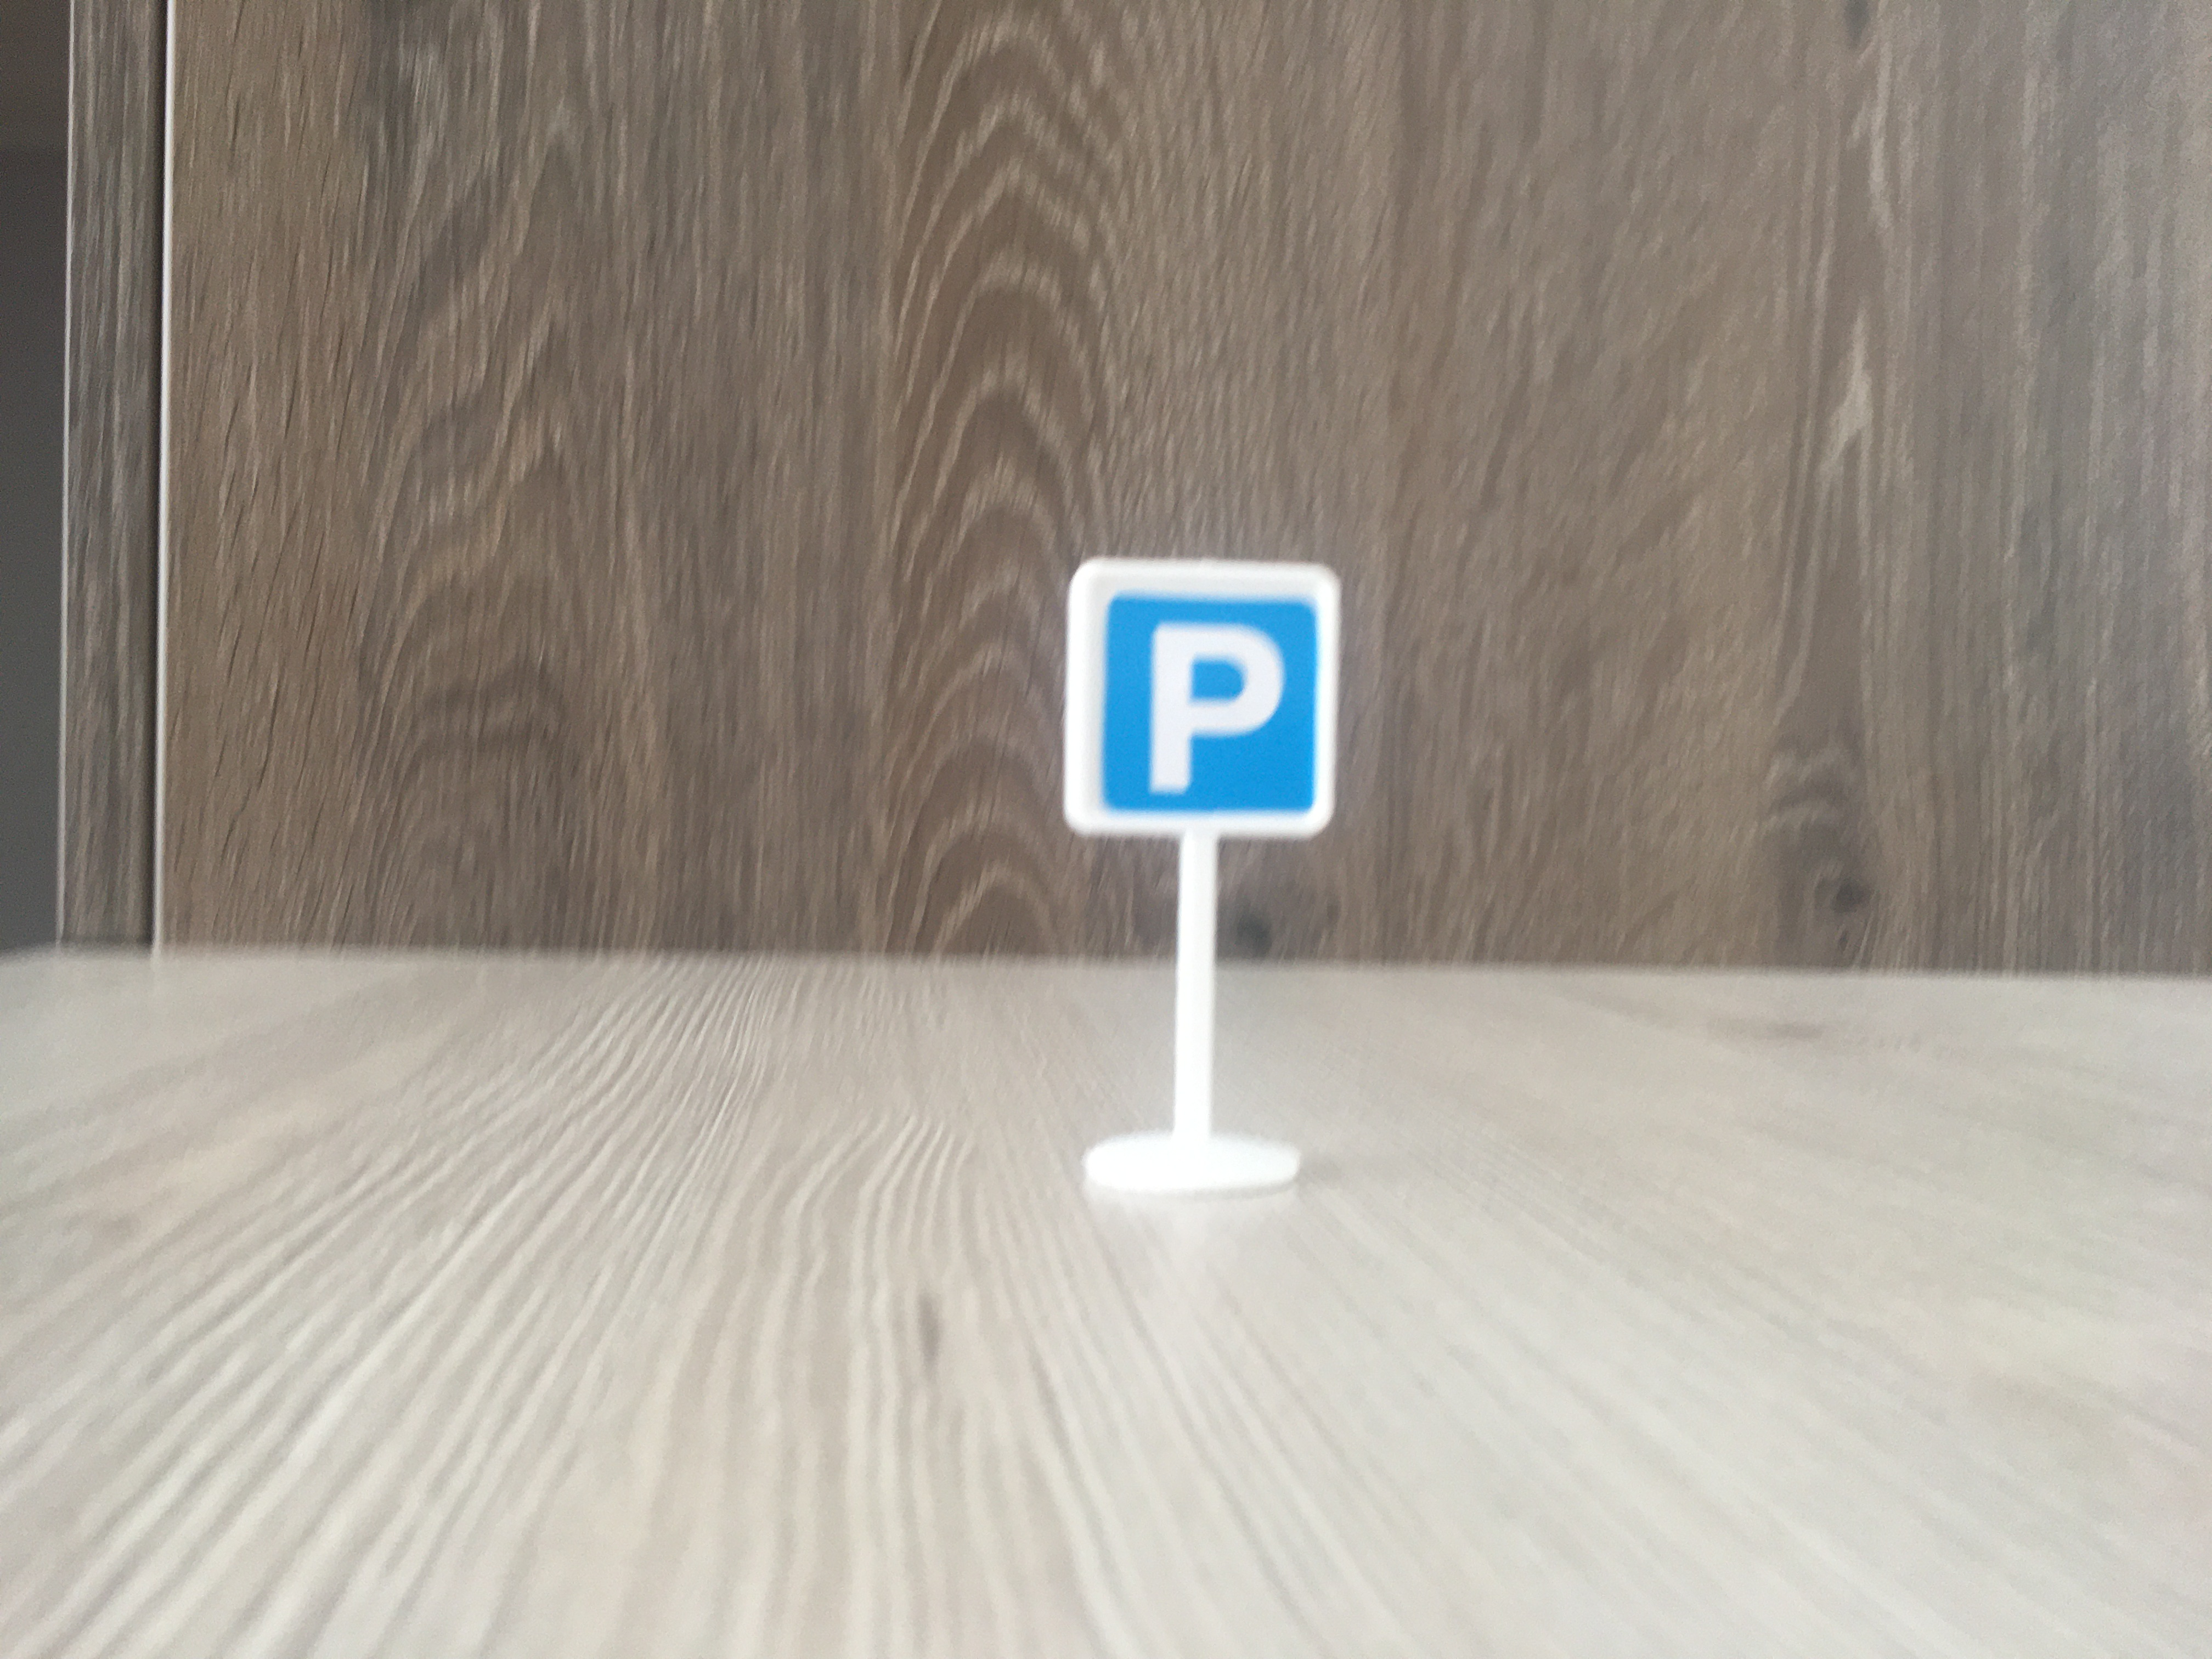parking: (1073, 563, 1331, 842)
